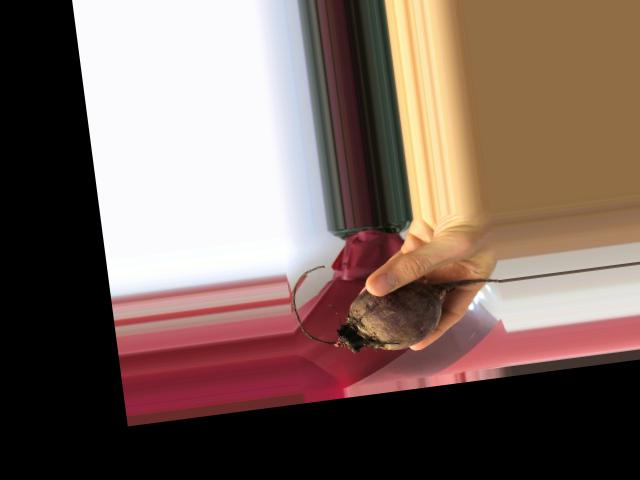beet: (287, 243, 506, 362)
